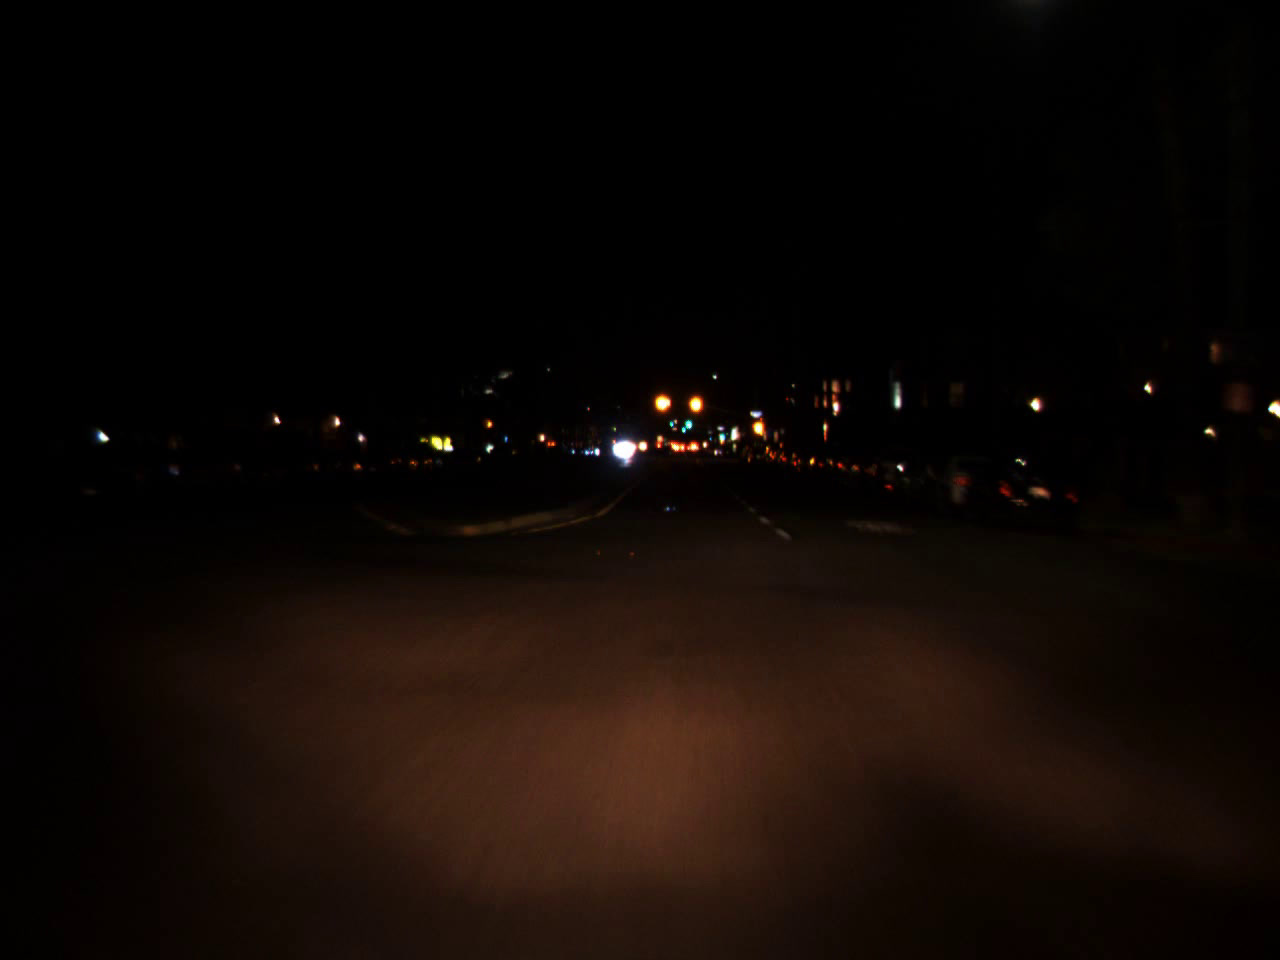go: (684, 410, 691, 431), (718, 428, 725, 440), (679, 422, 686, 434)
warning: (651, 382, 673, 422), (688, 385, 703, 422), (749, 412, 767, 439)
